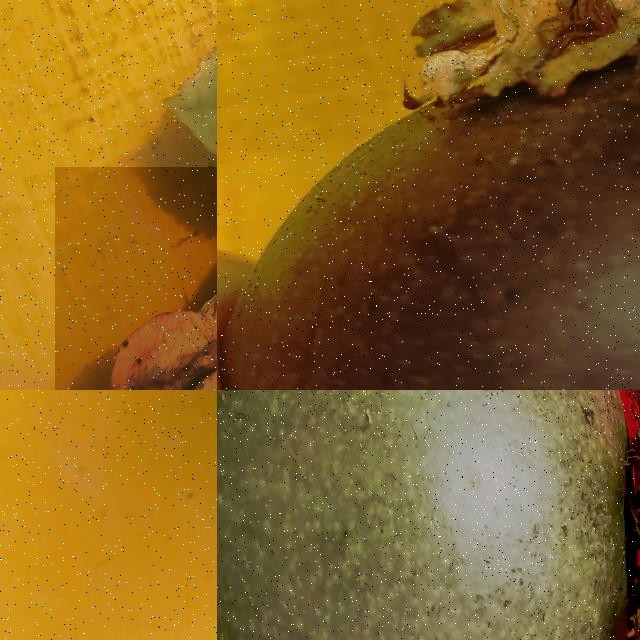Estado-1: (217, 390, 640, 640)
Estado-5: (217, 0, 640, 390)
